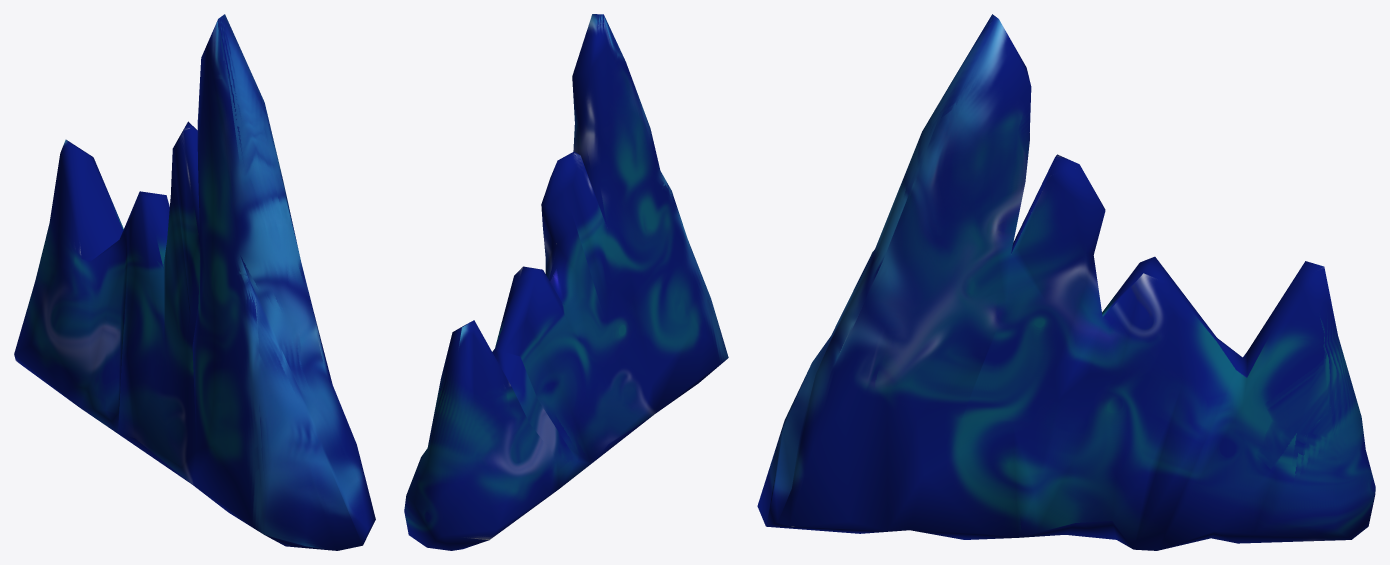
The model's file is SM_Stone_01.fbx.
3 views of the same model, side by side, from view 1: azimuth 30°, elevation 25°; view 2: azimuth 150°, elevation 25°; view 3: azimuth 270°, elevation 25° (orthographic). The views are drawn at different scales.
Parts seen in each view (by area): view 1: SM_Stone_01; view 2: SM_Stone_01; view 3: SM_Stone_01.
Part boxes in pixels (<box>): SM_Stone_01: <box>14,14,375,550</box>; SM_Stone_01: <box>404,14,728,550</box>; SM_Stone_01: <box>757,14,1375,550</box>.
Size of the model in its own units: 1.64 by 5.7 by 6.31.
